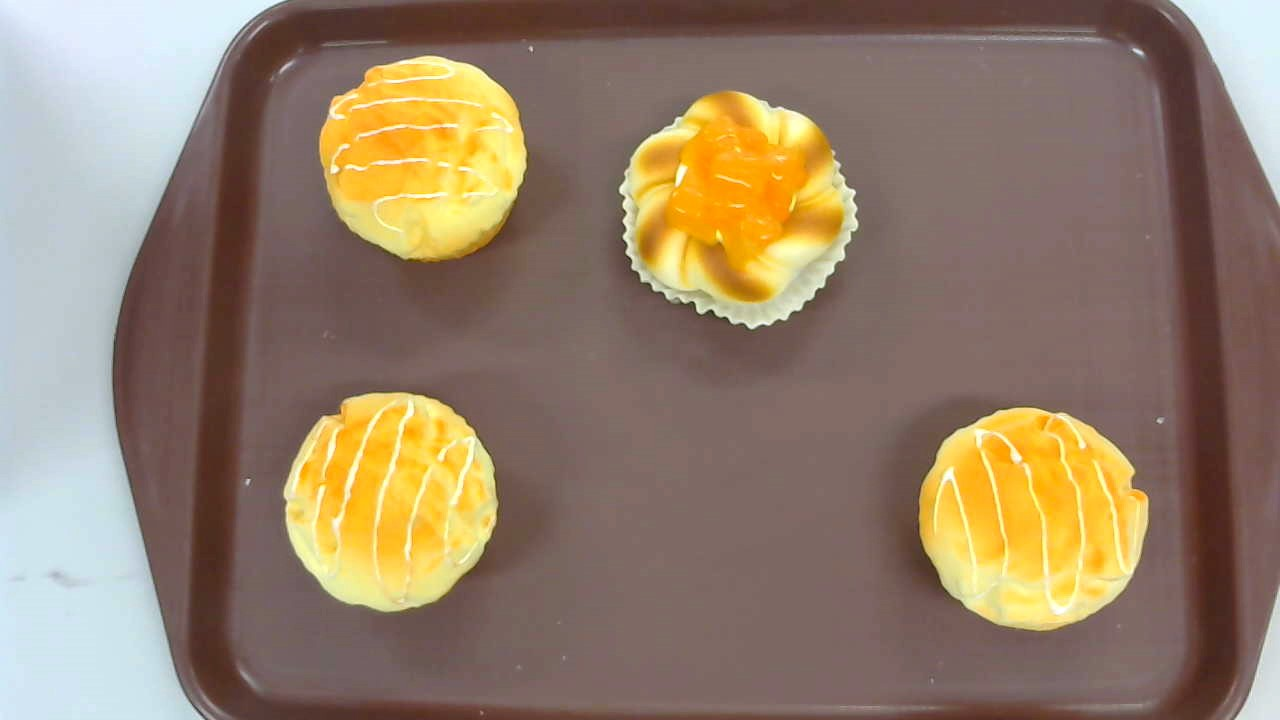cupcake: (916, 407, 1149, 632), (283, 391, 498, 612), (319, 54, 529, 265)
mango tart: (619, 88, 859, 331)
